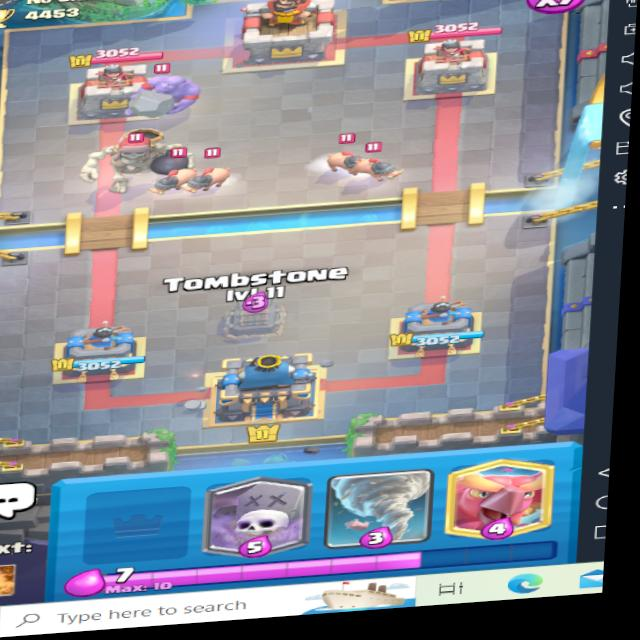Bowler: (124, 58, 203, 122)
Giantskeleton: (78, 120, 191, 199)
Royalhogs: (321, 135, 369, 183), (353, 139, 403, 183), (152, 157, 201, 200), (179, 161, 230, 196)
